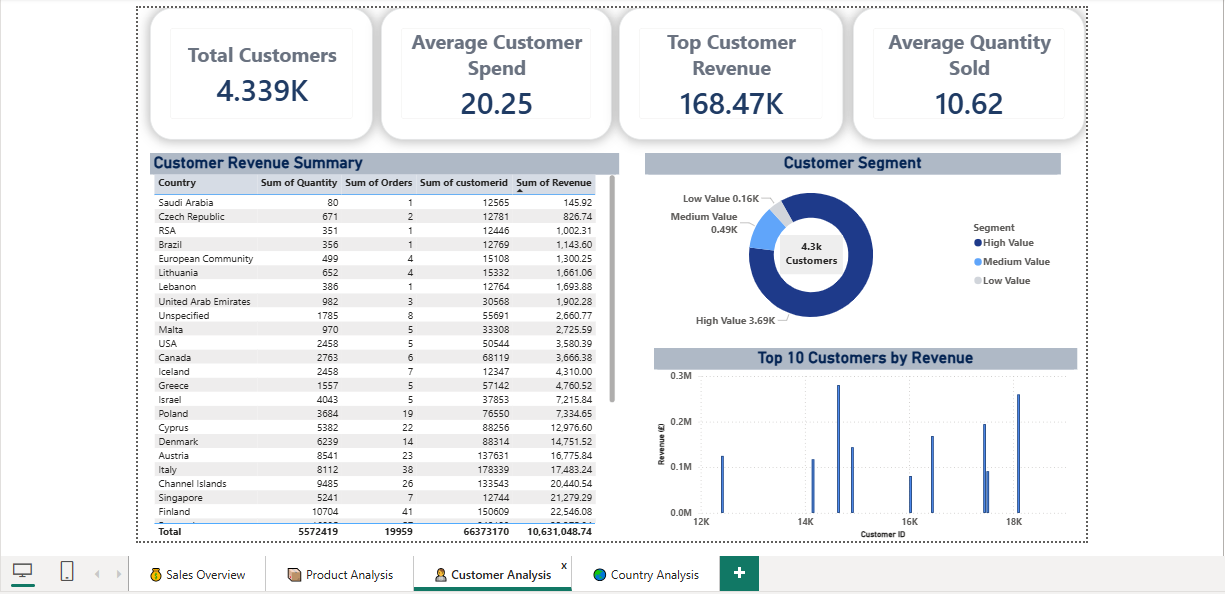

The dashboard page shown, as its layout file describes it:
{"tool":"powerbi","page":{"name":"👨💼 Customer Analysis","canvas":[1280,720],"ordinal":2},"visuals":[{"type":"cardVisual","fields":{"Data":["Count(sales dateset.customerid)"]},"box":[16.2,0,301.5,177.9],"z":0},{"type":"cardVisual","fields":{"Data":["sales dateset.Avg Customer Spend"]},"box":[327.9,0,311.8,177.9],"z":1000},{"type":"cardVisual","fields":{"Data":["sales dateset.Top Customer Revenue"]},"box":[650,0,302.9,177.9],"z":2000},{"type":"cardVisual","fields":{"Data":["sales dateset.Avg Quantity"]},"box":[966.2,0,313.2,177.9],"z":3000},{"type":"clusteredColumnChart","title":"Top 10 Customers by Revenue","fields":{"Category":["sales dateset.customerid"],"Y":["Sum(sales dateset.total_price)"]},"box":[697.1,458.8,572.1,261.8],"z":4000},{"type":"donutChart","title":"Customer Segment","fields":{"Category":["Customer Summary.Segment"],"Y":["CountNonNull(Customer Summary.customerid)"]},"box":[685.3,195.6,561.8,251.5],"z":5000},{"type":"tableEx","title":"Customer Revenue Summary","fields":{"Values":["Customer Summary All.Country","Sum(Customer Summary All.Quantity)","Sum(Customer Summary All.Orders)","Sum(Customer Summary All.customerid)","Sum(Customer Summary All.Revenue)"]},"box":[16.2,195.6,633.8,525],"z":6000},{"type":"textbox","box":[867.6,307.4,85.3,52.9],"z":7000}]}

Visuals, with their boxes on the page's 1280x720 design canvas (x1, y1, x2, y2). These are canvas units, not pixel positions in the 1225x594 screenshot, which may show the page scaled, cropped or inside an application window:
cardVisual - Count(sales dateset.customerid): pyautogui.locateOnScreen(16, 0, 318, 178)
cardVisual - sales dateset.Avg Customer Spend: pyautogui.locateOnScreen(328, 0, 640, 178)
cardVisual - sales dateset.Top Customer Revenue: pyautogui.locateOnScreen(650, 0, 953, 178)
cardVisual - sales dateset.Avg Quantity: pyautogui.locateOnScreen(966, 0, 1279, 178)
"Top 10 Customers by Revenue" clusteredColumnChart: pyautogui.locateOnScreen(697, 459, 1269, 721)
"Customer Segment" donutChart: pyautogui.locateOnScreen(685, 196, 1247, 447)
"Customer Revenue Summary" tableEx: pyautogui.locateOnScreen(16, 196, 650, 721)
textbox: pyautogui.locateOnScreen(868, 307, 953, 360)
